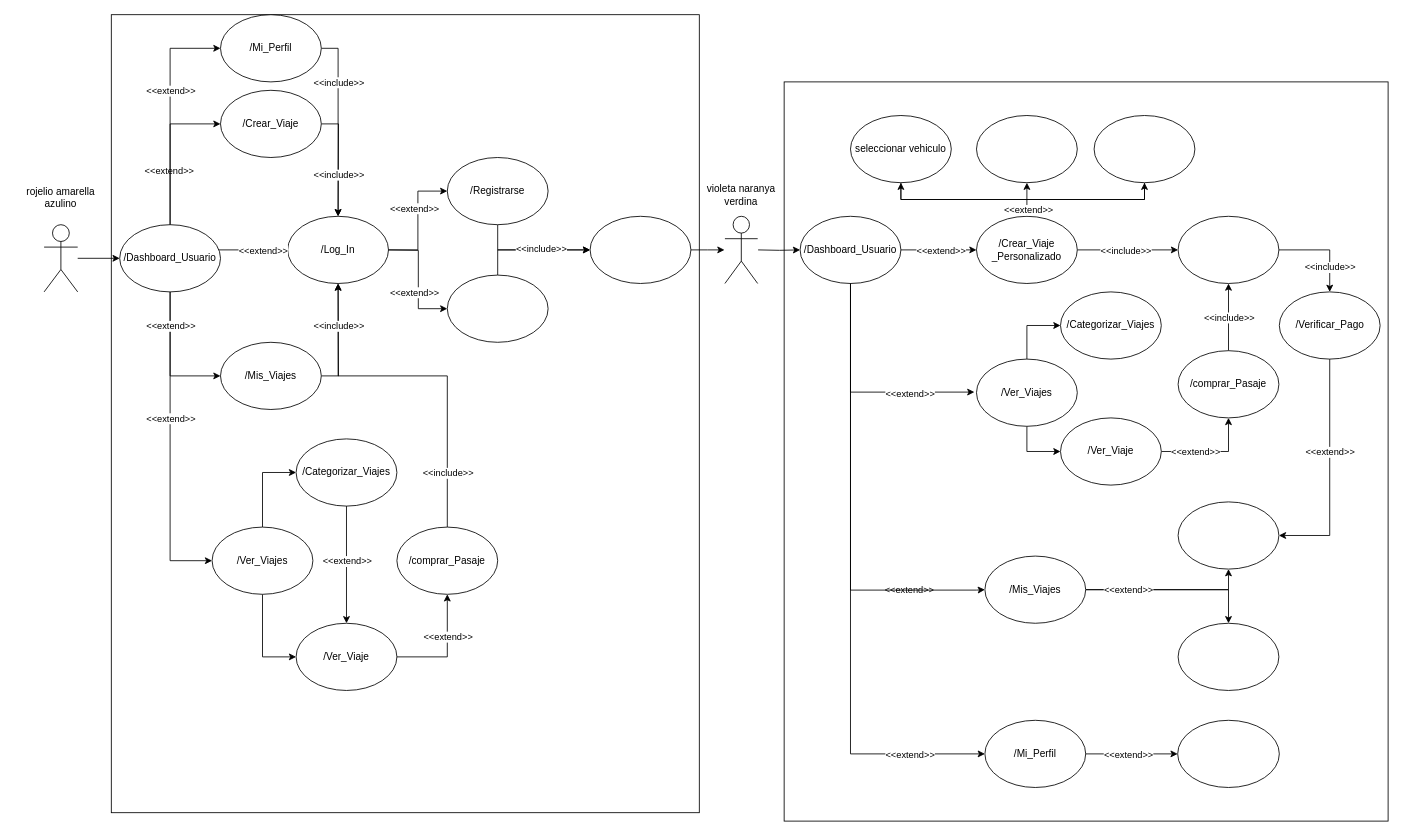
This 1403x836 diagram has some shape labels left out. The box of each missing label's shape, as (x1, y1, x2, y2) in pixels:
/Abonar_Viaje: (1177, 215, 1279, 284)
/Editar_Perfil: (1177, 719, 1279, 788)
/Iniciar_Sesión: (446, 274, 548, 342)
seleccionar fecha: (976, 115, 1077, 183)
seleccionar ruta: (1093, 115, 1195, 183)
usuario no registrado: (43, 224, 78, 292)
usuario registrado: (724, 215, 758, 284)
validar credenciales: (589, 215, 691, 284)
ver historial de viajes: (1177, 622, 1279, 690)
ver viajes reservados: (1177, 501, 1279, 569)
